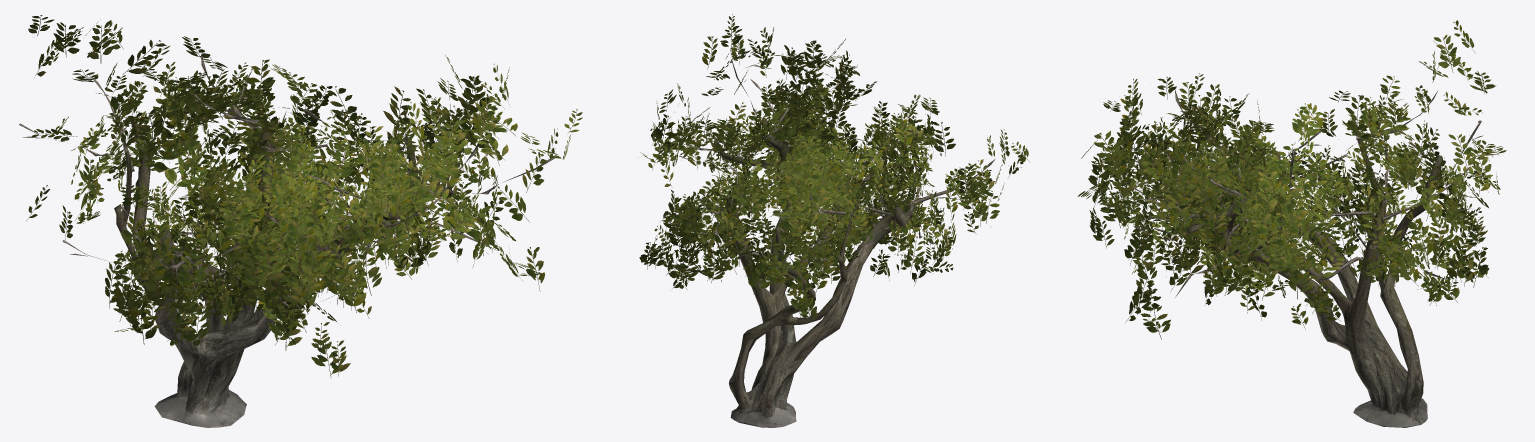
File: arbol_isla2_lod0.glb
The picture shows the model from 3 angles, left to right: view 1: azimuth 30°, elevation 25°; view 2: azimuth 150°, elevation 25°; view 3: azimuth 270°, elevation 25°; orthographic projection. The views are drawn at different scales.
Visible parts, largest first — view 1: island_tree_02_LOD0; view 2: island_tree_02_LOD0; view 3: island_tree_02_LOD0.
Part boxes in pixels (box(x1,y1,x2,y2)): island_tree_02_LOD0: box(19, 15, 582, 427); island_tree_02_LOD0: box(639, 14, 1029, 427); island_tree_02_LOD0: box(1078, 20, 1506, 427).
Bounding box in the file's own units: 8.07 × 7 × 8.5.
Materials: 3 (3 with a texture image).
